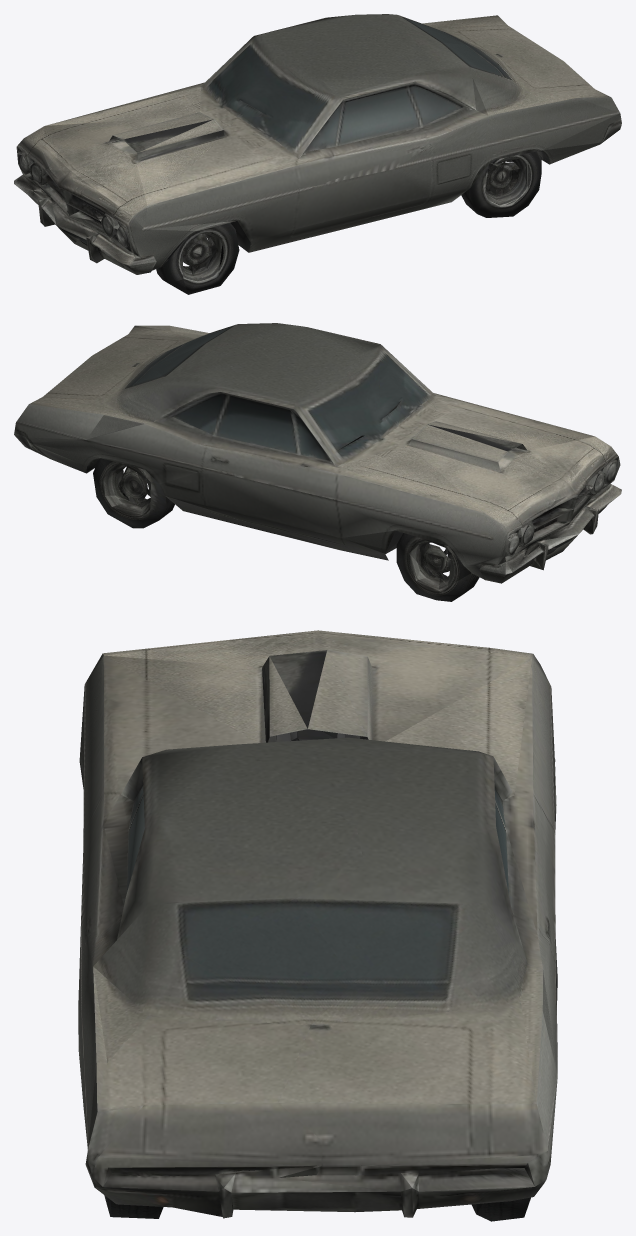
File: car_muscle_light.glb
3 renders of one model, top to bottom at view 1: azimuth 30°, elevation 25°; view 2: azimuth 150°, elevation 25°; view 3: azimuth 270°, elevation 25°, orthographic. The views are drawn at different scales.
Visible parts, largest first — view 1: output_unwrapped; view 2: output_unwrapped; view 3: output_unwrapped.
Boxes of the visible parts, left/top/right/bottom form: output_unwrapped: left=14, top=14, right=621, bottom=294; output_unwrapped: left=14, top=323, right=621, bottom=601; output_unwrapped: left=78, top=630, right=557, bottom=1221.
Bounding box in the file's own units: 4.59 × 1.35 × 1.84.
Materials: 1 (1 with a texture image).
